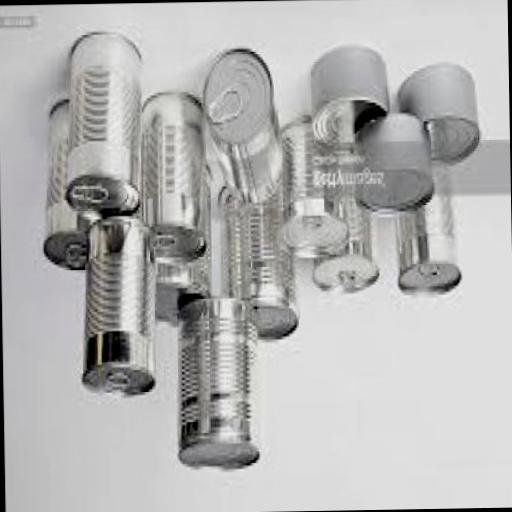metal: (60, 32, 142, 222), (170, 299, 260, 471), (76, 217, 159, 398), (201, 44, 280, 205), (216, 184, 296, 342), (136, 93, 207, 268), (273, 114, 347, 260), (36, 102, 96, 272), (393, 61, 478, 166), (350, 108, 432, 216), (310, 46, 388, 156), (394, 186, 460, 300), (309, 199, 377, 296), (152, 253, 208, 330), (206, 87, 238, 127), (68, 185, 108, 210), (62, 246, 84, 272)
